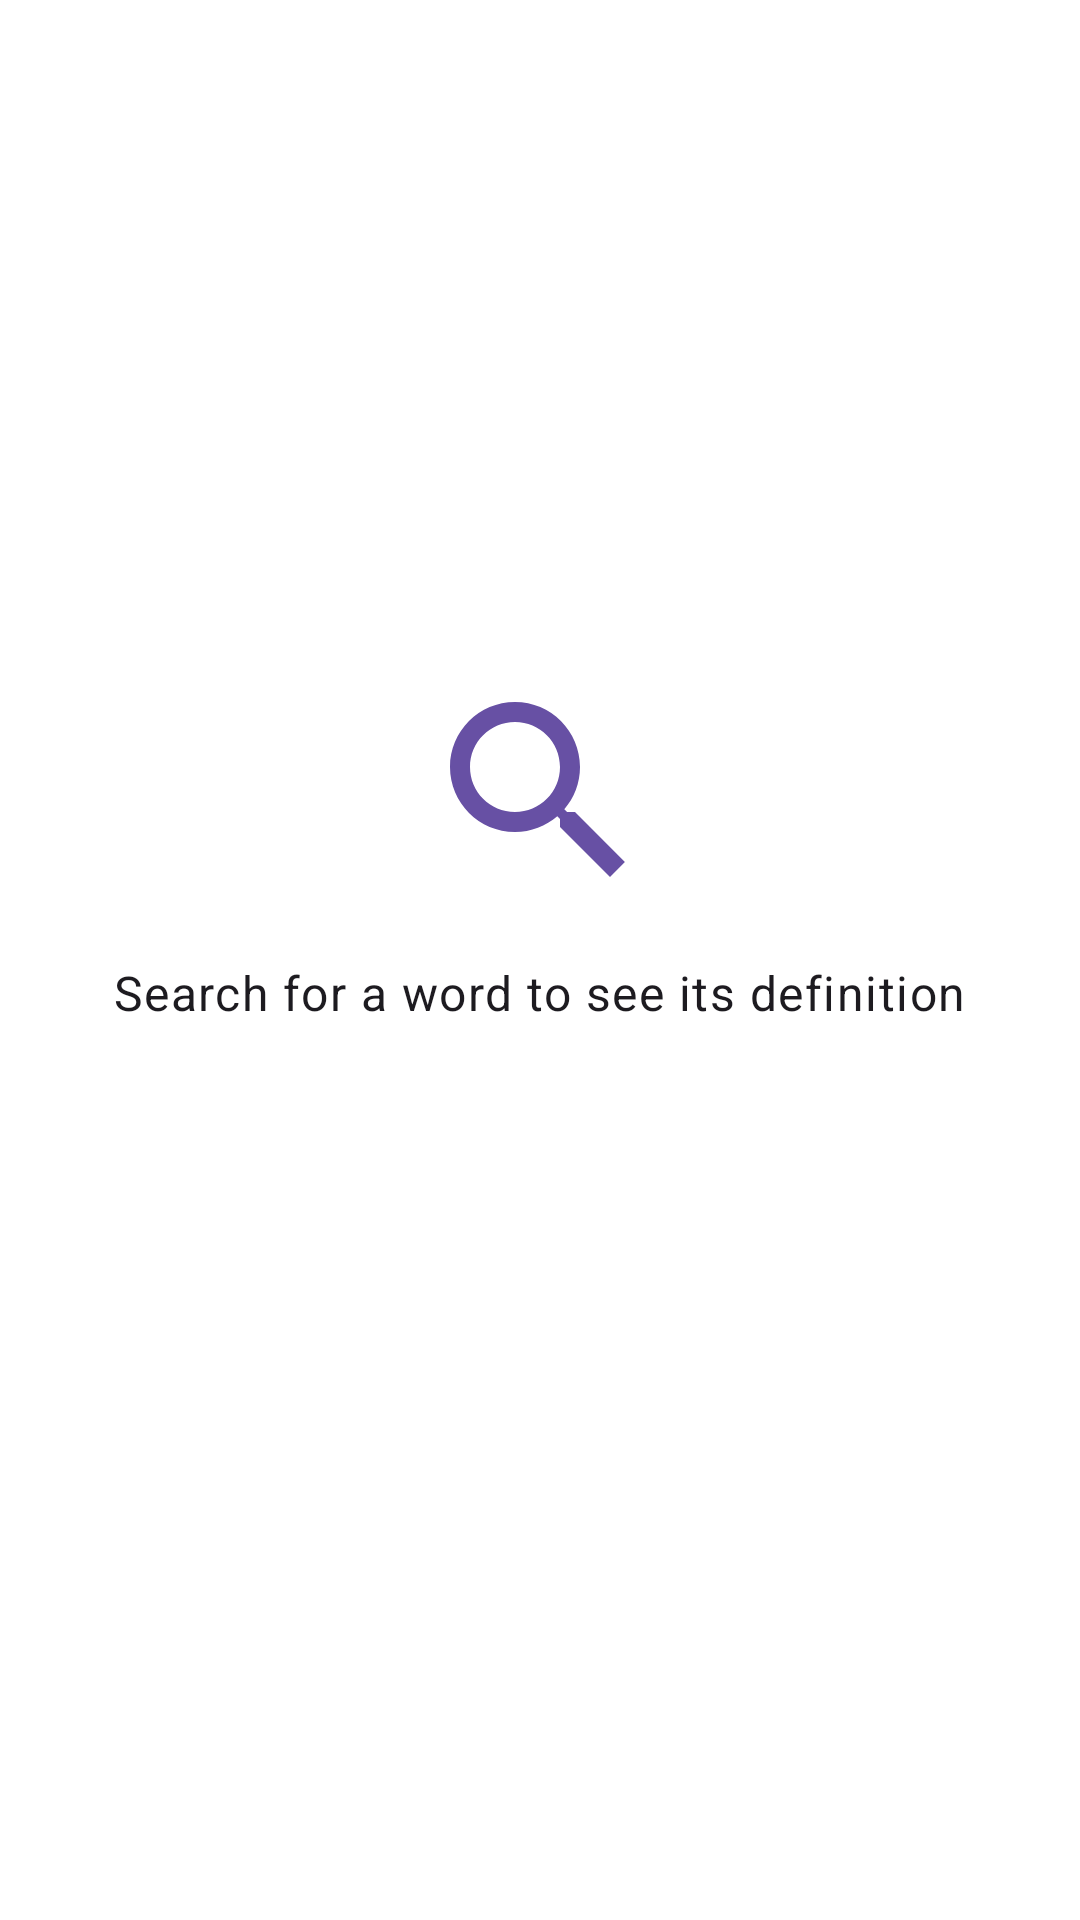

Icon bounding boxes for this 1080*1920 phone screenshot, format box(x1, y1, x2, y2):
empty search: box(450, 702, 625, 877)
